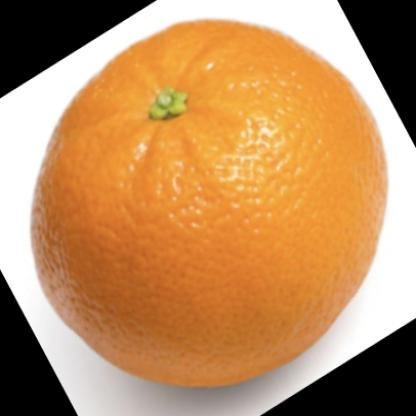fresh: (29, 20, 389, 389)
